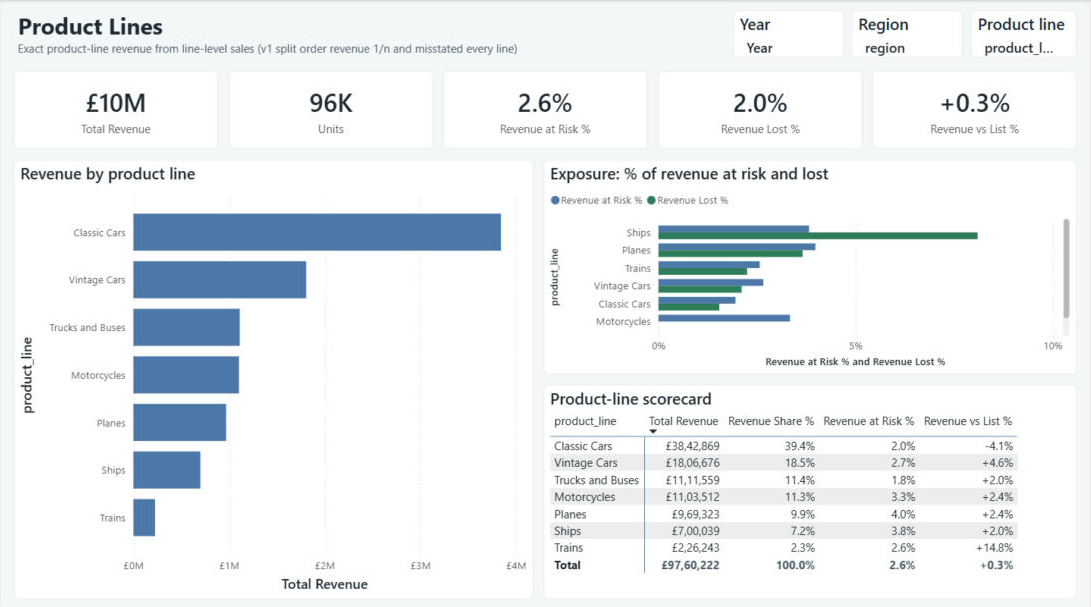

The dashboard page shown, as its layout file describes it:
{"tool":"powerbi","page":{"name":"Product/Revenue at Risk","canvas":[1280,720],"ordinal":3},"visuals":[{"type":"slicer","fields":{"Values":["DimDate.YearMonth"]},"box":[1002.7,0,130.8,238.5],"z":0},{"type":"slicer","fields":{"Values":["dim_productline.productline"]},"box":[1133.6,0,146.7,238.5],"z":1000},{"type":"card","fields":{"Values":["_Measures.Product Orders"]},"box":[346.1,0,406,89.3],"z":2000},{"type":"card","fields":{"Values":["_Measures.Allocated Revenue"]},"box":[657.9,1.2,344.8,89.3],"z":3000},{"type":"card","fields":{"Values":["_Measures.Allocated Revenue at Risk %"]},"box":[0,0,376.6,89.3],"z":4000},{"type":"clusteredBarChart","fields":{"Category":["dim_productline.productline"],"Y":["_Measures.Product High Risk % Fresh"]},"box":[0,425.8,752.4,293.9],"z":5000},{"type":"clusteredBarChart","fields":{"Category":["dim_productline.productline"],"Y":["_Measures.Allocated Revenue at Risk %"]},"box":[0,89.3,657.9,306.9],"z":6000},{"type":"clusteredBarChart","fields":{"Category":["dim_productline.productline"],"Y":["_Measures.Allocated Revenue"]},"box":[752.4,425.8,506.2,293.9],"z":7000}]}

Visuals, with their boxes in screenshot pixels (x1, y1, x2, y2), scaled from the page's 1280x720 canvas onto the 1091x607 screenshot:
slicer - DimDate.YearMonth: (855, 0, 966, 201)
slicer - dim_productline.productline: (966, 0, 1090, 201)
card - _Measures.Product Orders: (295, 0, 641, 75)
card - _Measures.Allocated Revenue: (561, 1, 855, 76)
card - _Measures.Allocated Revenue at Risk %: (0, 0, 321, 75)
clusteredBarChart - dim_productline.productline x _Measures.Product High Risk % Fresh: (0, 359, 641, 606)
clusteredBarChart - dim_productline.productline x _Measures.Allocated Revenue at Risk %: (0, 75, 561, 334)
clusteredBarChart - dim_productline.productline x _Measures.Allocated Revenue: (641, 359, 1073, 606)
